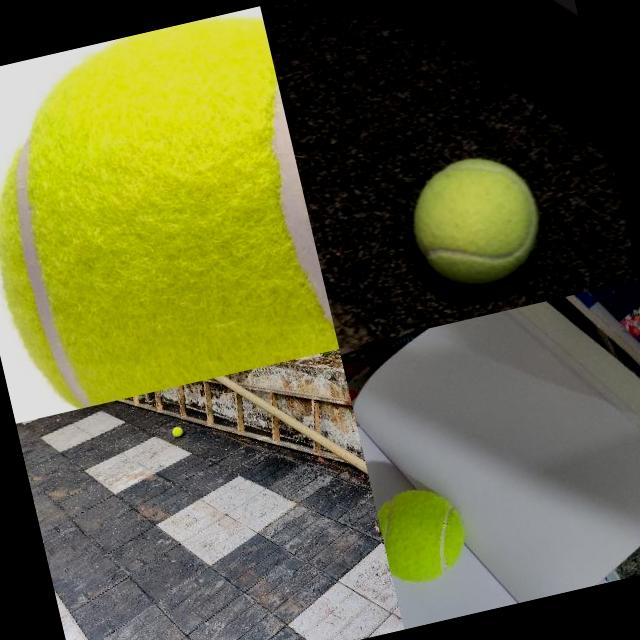tennis-ball: (0, 5, 337, 418), (399, 145, 550, 296), (373, 478, 473, 588), (170, 425, 183, 437)
